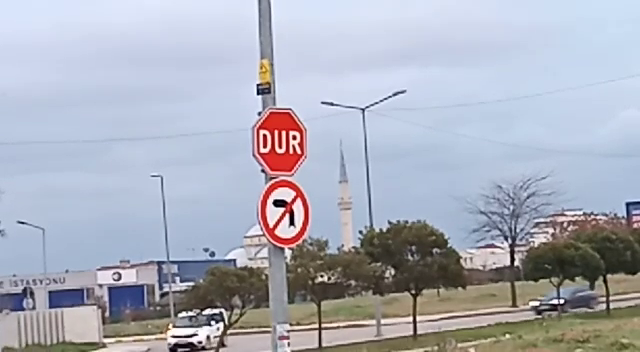no_left: (255, 177, 314, 251)
stop: (249, 105, 311, 177)
